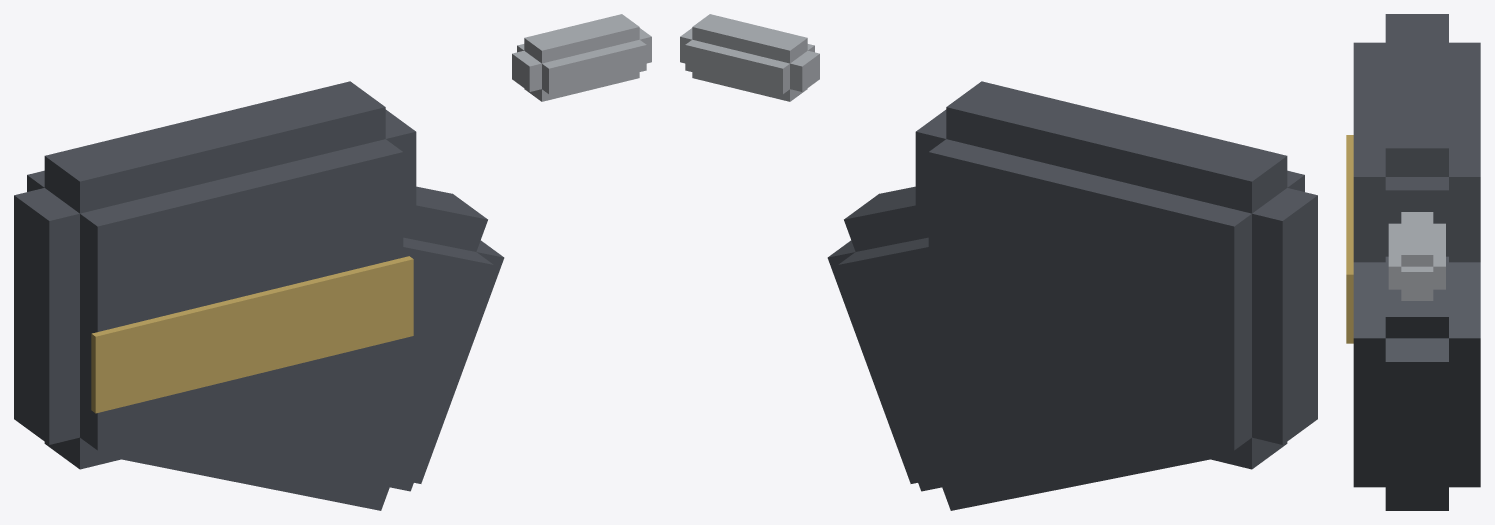
The model's file is item_padlock_broken_hand.glb.
The picture shows the model from 3 angles, left to right: view 1: azimuth 30°, elevation 25°; view 2: azimuth 150°, elevation 25°; view 3: azimuth 270°, elevation 25°; orthographic projection. The views are drawn at different scales.
Visible parts, largest first — view 1: padlock_mesh; view 2: padlock_mesh; view 3: padlock_mesh.
Part boxes in pixels (<box>): padlock_mesh: <box>14,14,651,510</box>; padlock_mesh: <box>680,14,1317,510</box>; padlock_mesh: <box>1346,14,1480,510</box>.
Size of the model in its own units: 0.1 by 0.0645 by 0.0212.
